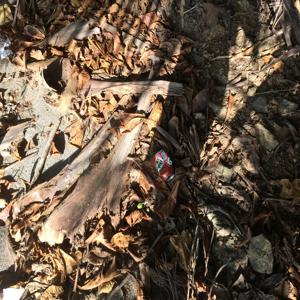metal: (147, 145, 177, 186)
